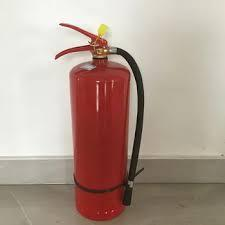floor-kept: (44, 12, 155, 223)
